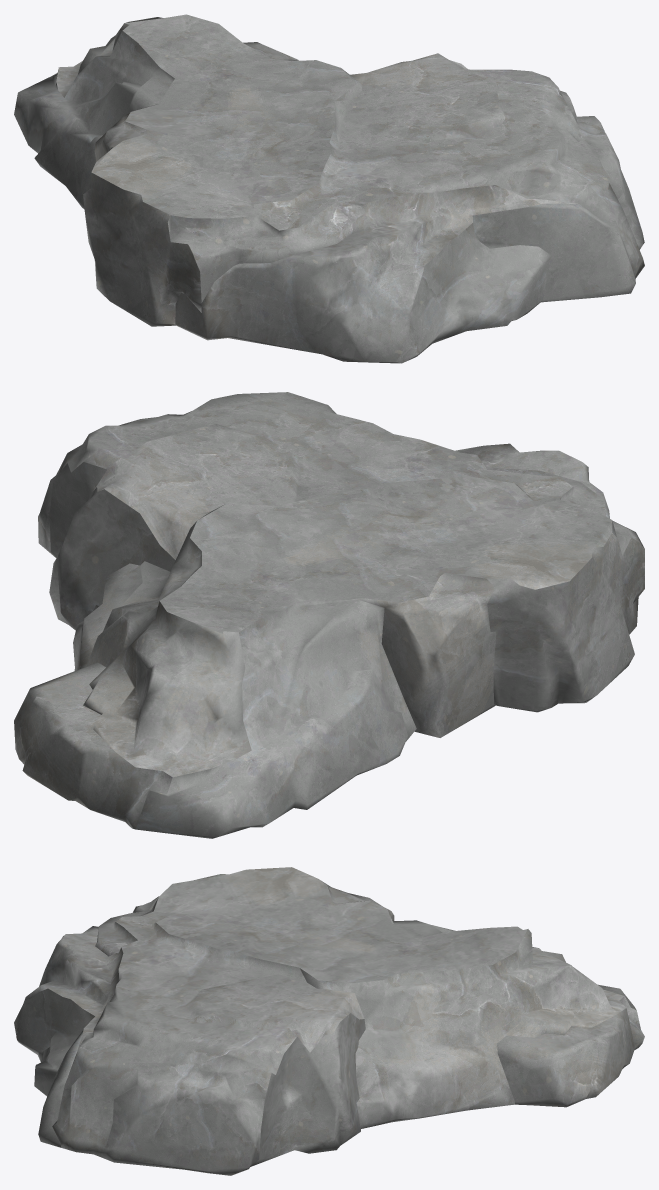
Rendered from SM_Com_Roc_25AS.fbx.
The picture shows the model from 3 angles, top to bottom: view 1: azimuth 30°, elevation 25°; view 2: azimuth 150°, elevation 25°; view 3: azimuth 270°, elevation 25°; orthographic projection. The views are drawn at different scales.
Parts seen in each view (by area): view 1: SM_Com_Roc_25AS.mo; view 2: SM_Com_Roc_25AS.mo; view 3: SM_Com_Roc_25AS.mo.
Boxes of the visible parts, box(x1,y1,x2,y2) form: SM_Com_Roc_25AS.mo: box(14, 14, 644, 363); SM_Com_Roc_25AS.mo: box(14, 392, 644, 838); SM_Com_Roc_25AS.mo: box(14, 867, 644, 1175).
Size of the model in its own units: 16.31 by 4.2 by 20.67.
